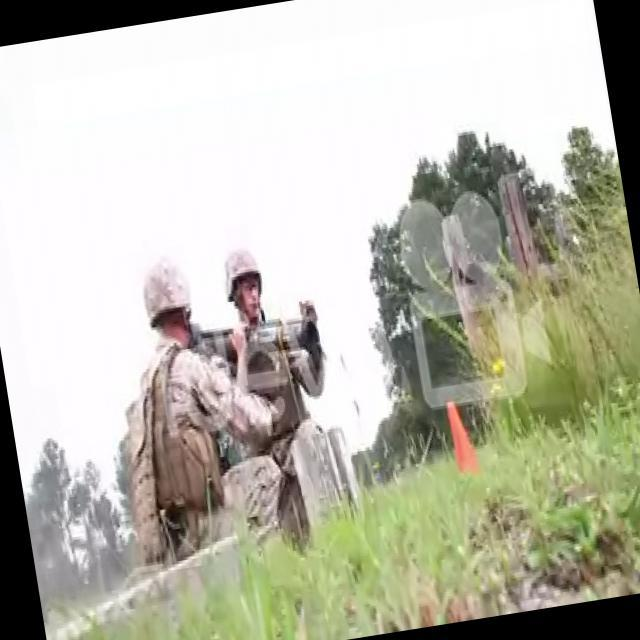rocket: (216, 304, 326, 378)
